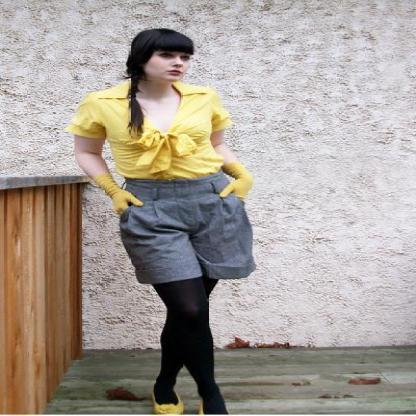jacket: (72, 80, 228, 180)
shoe: (203, 397, 228, 414)
shorts: (117, 165, 261, 285)
